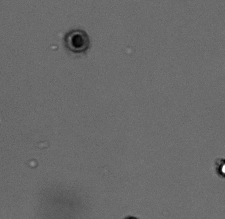Dead Cell: (66, 30, 90, 52)
